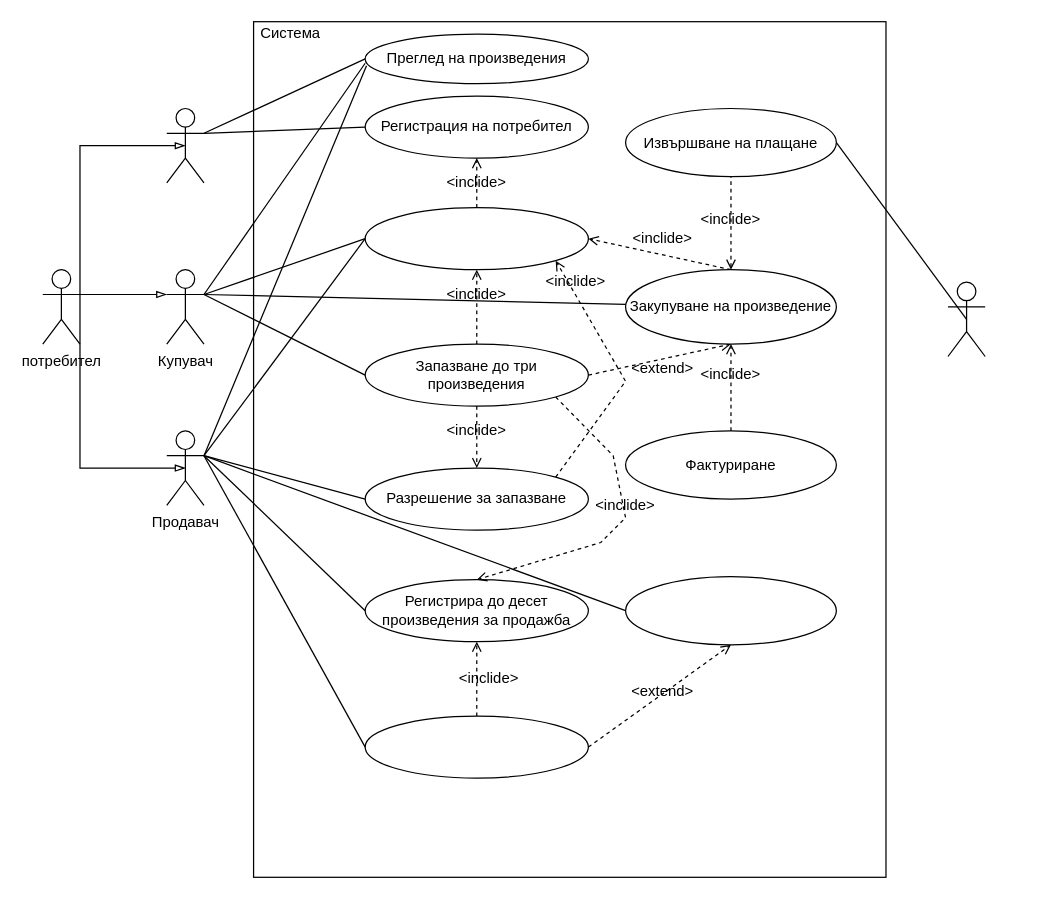
The diagram is 1042 pixels wide and 899 high, and some of its shapes have lost their labels. Each missing label, with the box of its shape:
Вписване на потребител: (364, 206, 588, 270)
Качване на снимки: (624, 575, 836, 645)
Нерегистриран потребител: (166, 107, 204, 183)
Разплащателна система: (947, 281, 985, 356)
Редактира информация за произведения: (364, 715, 588, 778)
